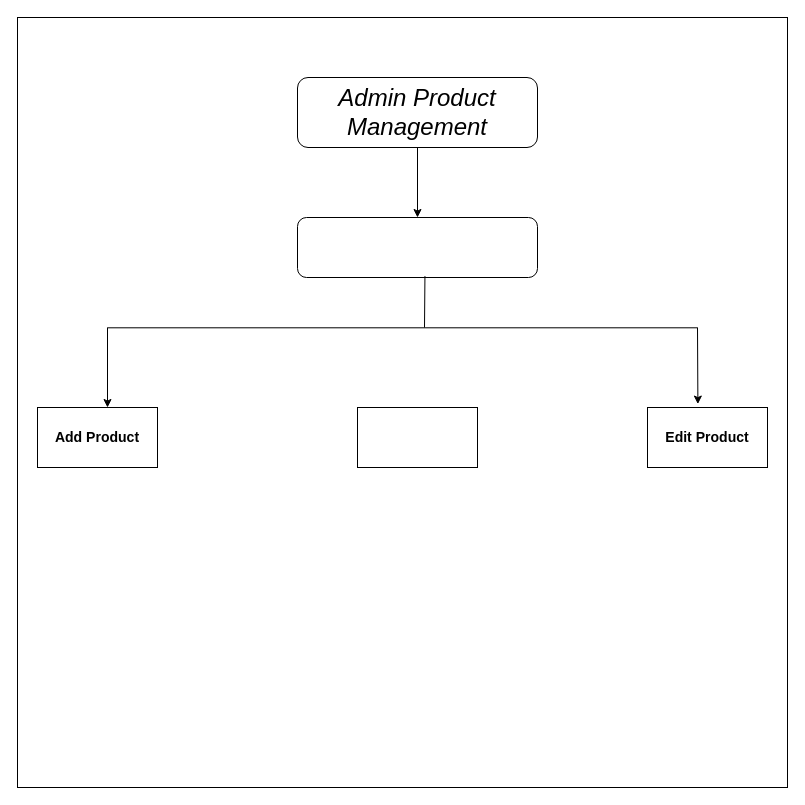
Image size: 805x805. Some labels were removed from this diagram. Here are the shapes that lost their labels. From the top down, the centre of each, then its label:
At pixel 417 247: "Product Crud Operations".
At pixel 417 437: "Delete Product".
